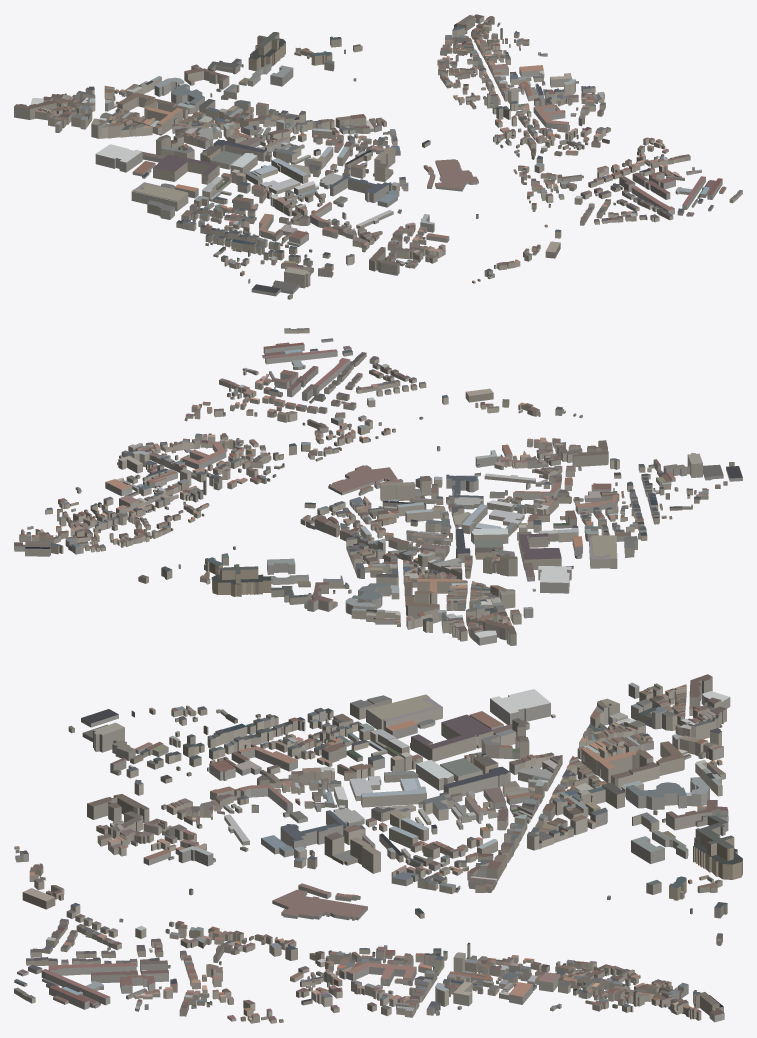
3 views of the same model, one above another, from view 1: azimuth 30°, elevation 25°; view 2: azimuth 150°, elevation 25°; view 3: azimuth 270°, elevation 25° (orthographic). The views are drawn at different scales.
Parts seen in each view (by area): view 1: tuile; view 2: tuile; view 3: tuile.
Part boxes in pixels (x1,y1,x2,y2): tuile: (14, 14, 742, 299); tuile: (14, 328, 742, 645); tuile: (14, 674, 742, 1023).
Bounding box in the file's own units: 1036 × 75.91 × 1031.
